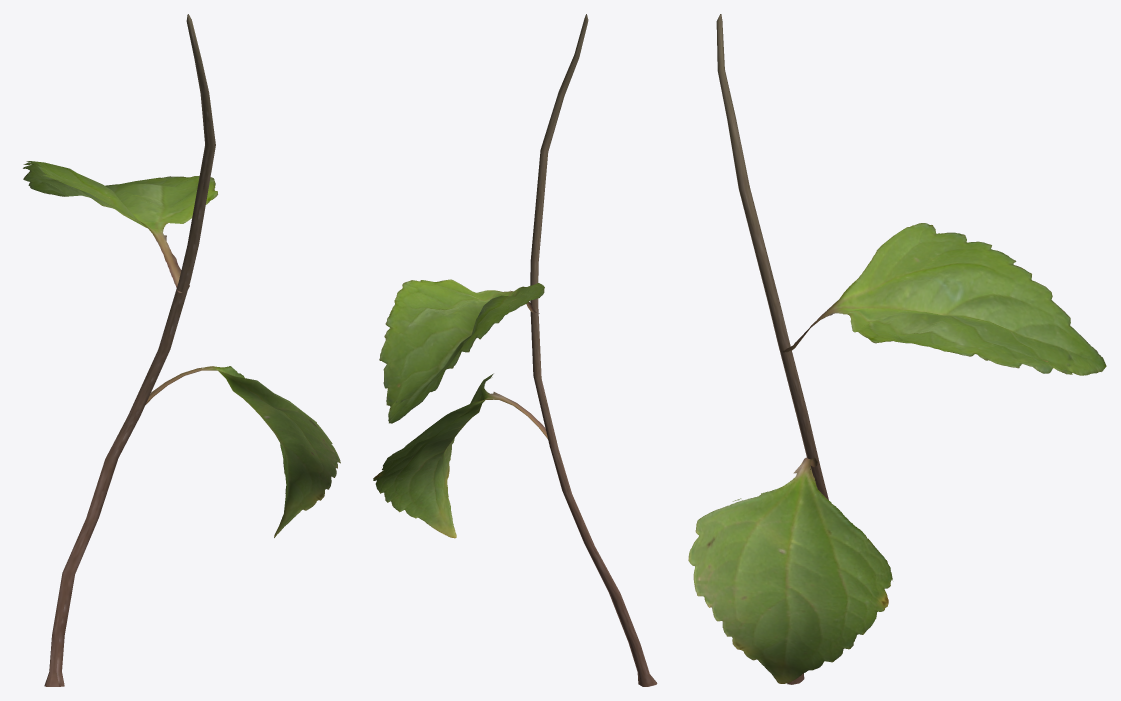
File: Herb Shrub B.glb
The picture shows the model from 3 angles, left to right: view 1: azimuth 30°, elevation 25°; view 2: azimuth 150°, elevation 25°; view 3: azimuth 270°, elevation 25°; orthographic projection. The views are drawn at different scales.
Parts seen in each view (by area): view 1: Herb Shrub B; view 2: Herb Shrub B; view 3: Herb Shrub B.
Part boxes in pixels (x1=…): Herb Shrub B: x1=23, y1=14, x2=340, y2=686; Herb Shrub B: x1=373, y1=14, x2=657, y2=686; Herb Shrub B: x1=688, y1=14, x2=1106, y2=684.
Bounding box in the file's own units: 0.3932 × 0.95 × 0.5037.
Materials: 1 (1 with a texture image).
